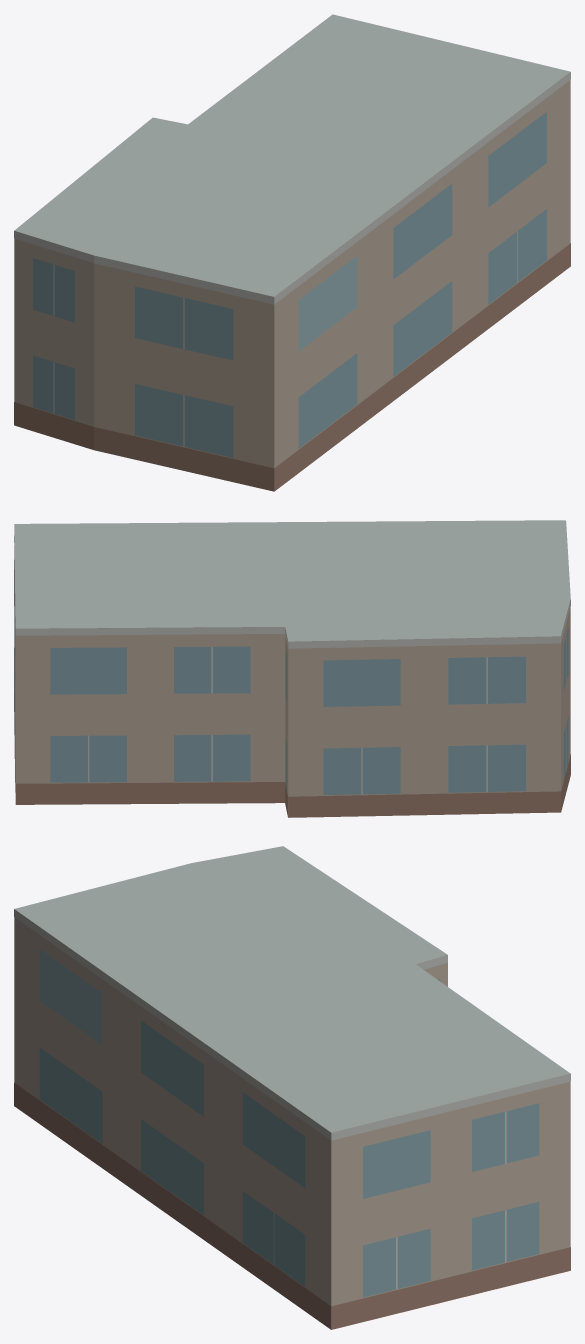
File: survey-upis-32919821.glb
3 views of the same model, one above another, from view 1: azimuth 30°, elevation 25°; view 2: azimuth 150°, elevation 25°; view 3: azimuth 270°, elevation 25° (orthographic). The views are drawn at different scales.
Visible parts, largest first — view 1: survey-upis-32919821.tmp; view 2: survey-upis-32919821.tmp; view 3: survey-upis-32919821.tmp.
Boxes of the visible parts, left/top/right/bottom form: survey-upis-32919821.tmp: left=14, top=14, right=570, bottom=491; survey-upis-32919821.tmp: left=14, top=520, right=570, bottom=817; survey-upis-32919821.tmp: left=14, top=846, right=570, bottom=1329.
Bounding box in the file's own units: 19.05 × 6.1 × 15.63.
